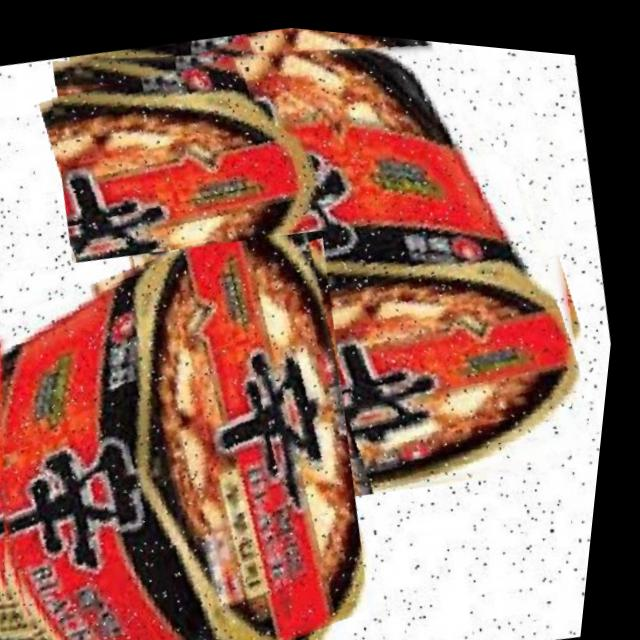Miscellaneous: (10, 4, 637, 560), (0, 196, 424, 640)
